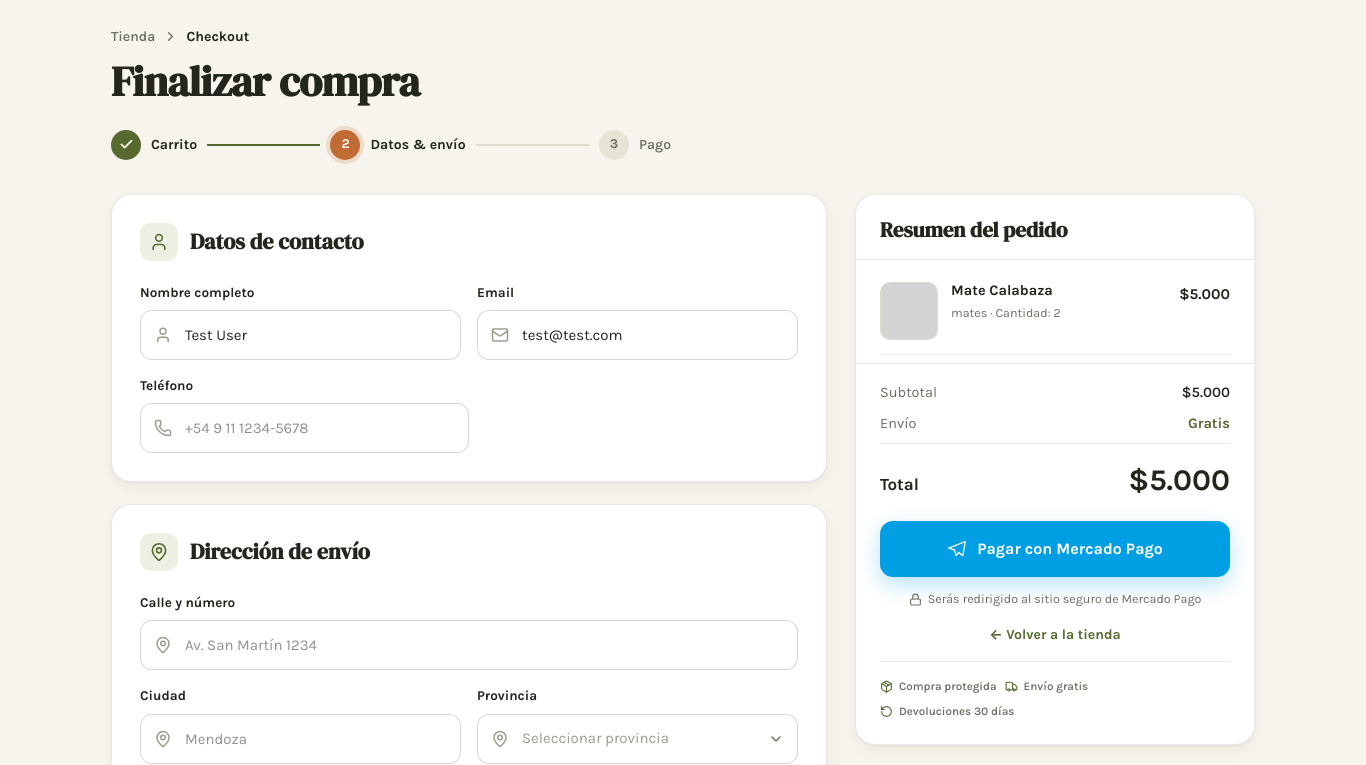
Checkout page › shows email validation error when email is invalid
The width and height of the screenshot is (1366, 765).
Replace the text in the field with placeholder "juan@ejemplo.com" below "Email" with "not-an-email" at point(638, 335), box 477,310 -> 798,360
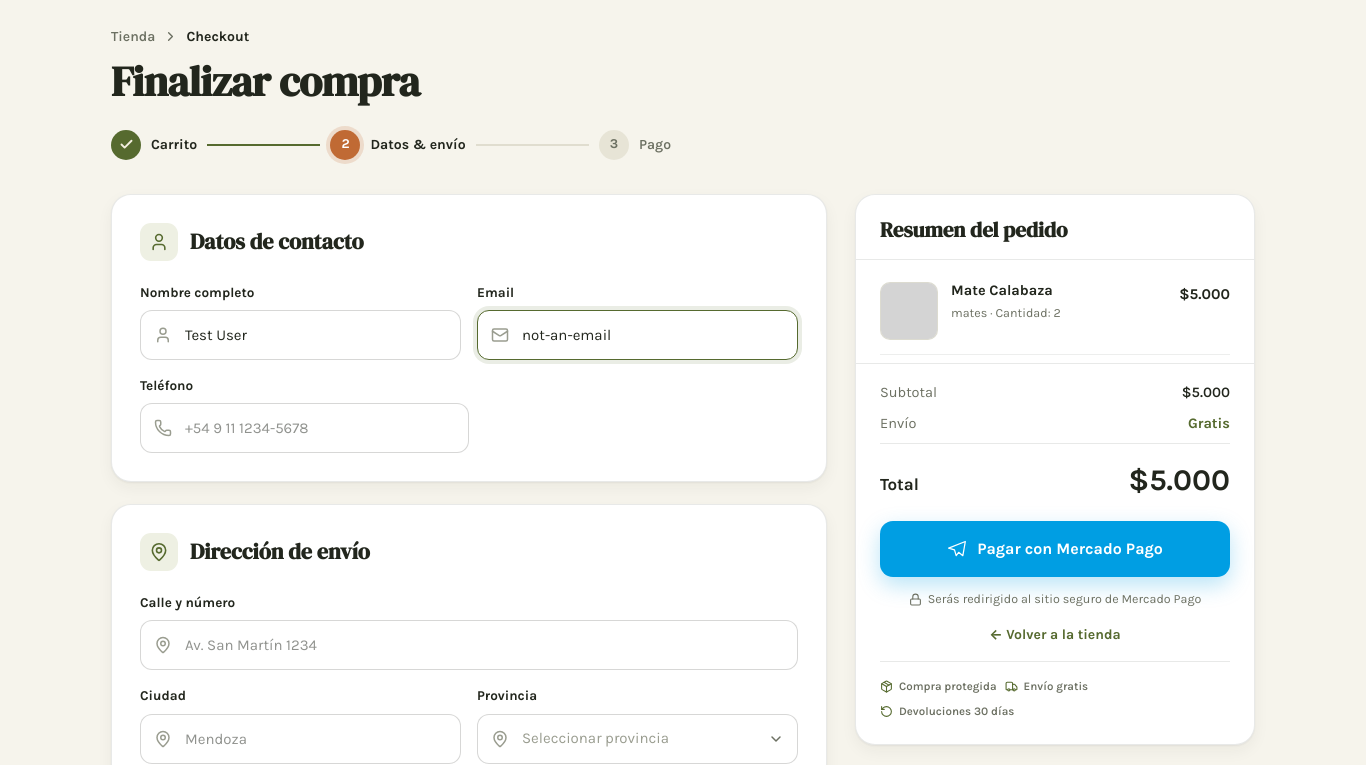
Click the button "Pagar con Mercado Pago" at point(1055, 549), box 880,521 -> 1230,577
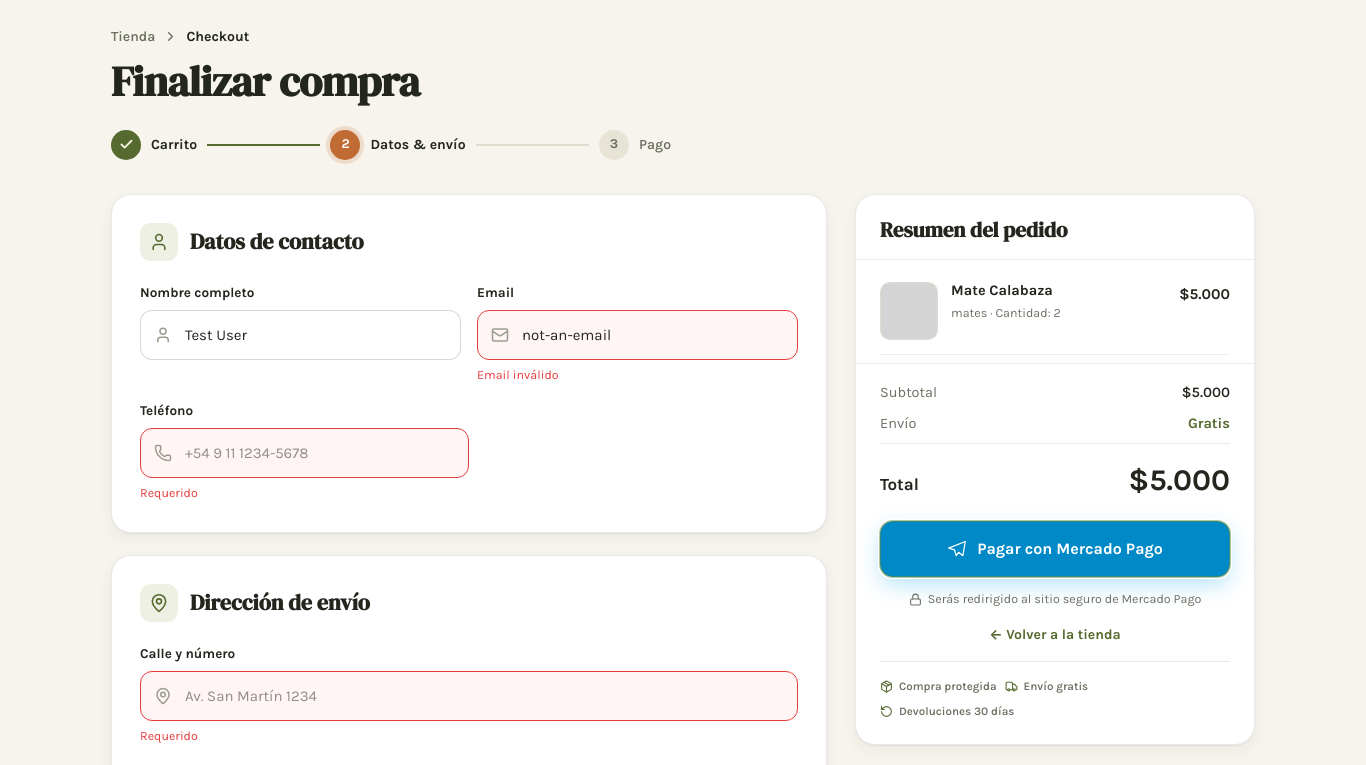
Expected: the text "Email inválido" is shown, 477,368 -> 559,382
